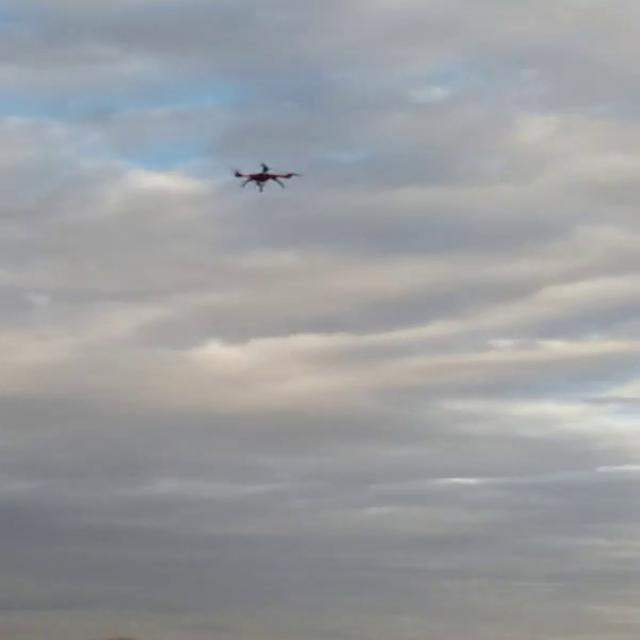drone: (230, 160, 302, 192)
